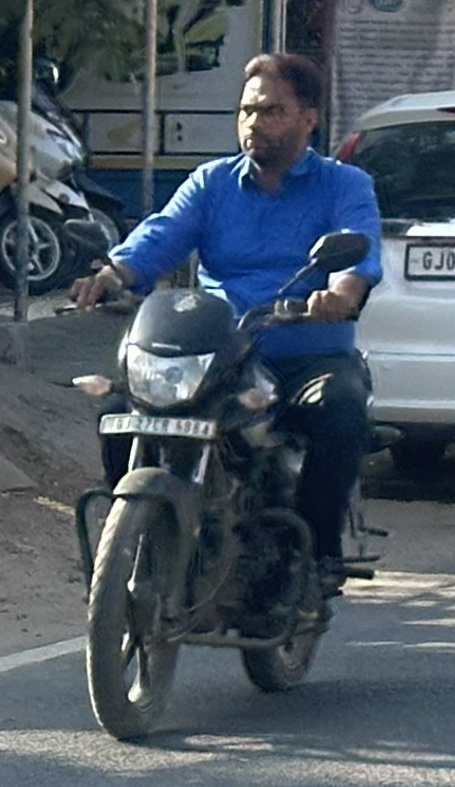BikeWithRider: (54, 20, 423, 749)
NoHelmet: (223, 46, 333, 169)
